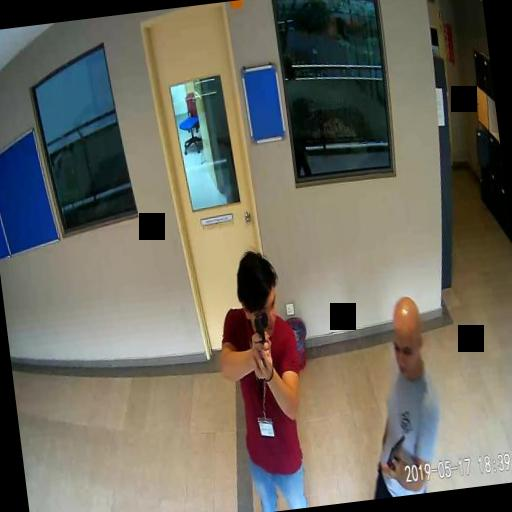Handgun: (251, 310, 272, 362)
